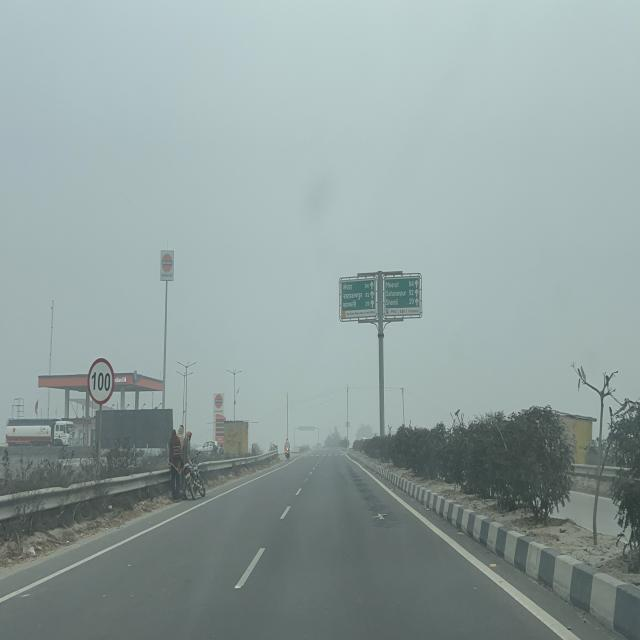GENERAL: (339, 278, 376, 318), (384, 277, 422, 315)
